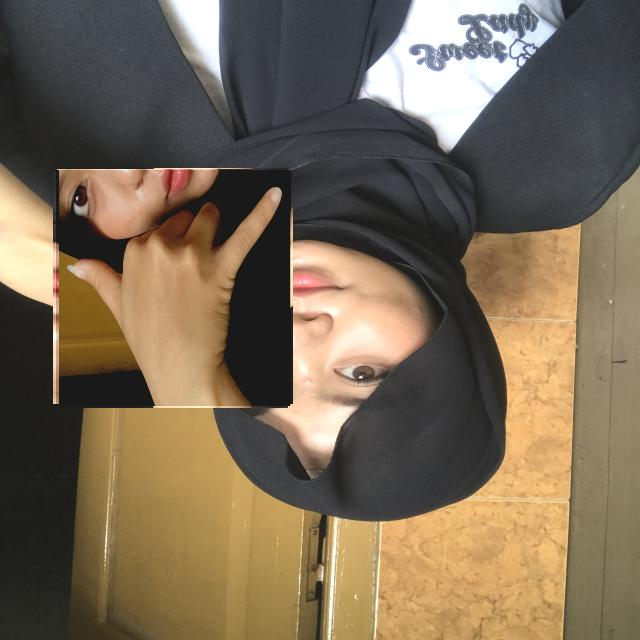telpon: (54, 170, 290, 406)
